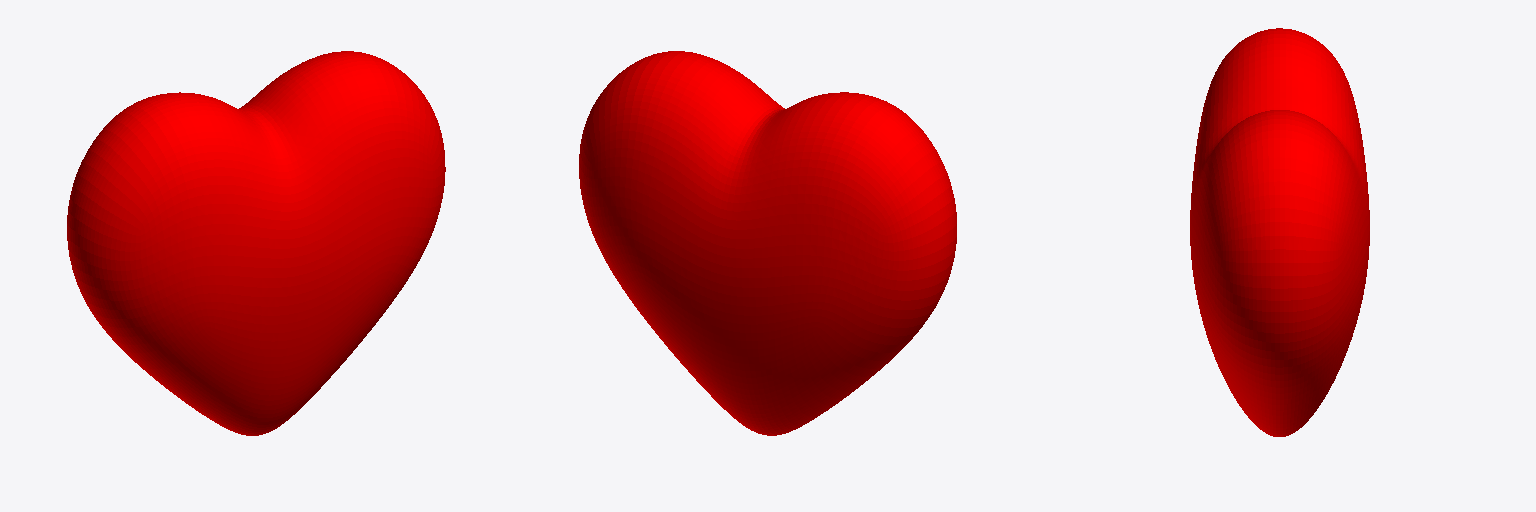
File: heart.obj
3 views of the same model, side by side, from view 1: azimuth 30°, elevation 25°; view 2: azimuth 150°, elevation 25°; view 3: azimuth 270°, elevation 25° (orthographic).
Parts seen in each view (by area): view 1: Heart; view 2: Heart; view 3: Heart.
Boxes of the visible parts, x1,y1,x2,y2 form: Heart: [67, 51, 445, 435]; Heart: [579, 51, 956, 435]; Heart: [1190, 28, 1369, 436].
Bounding box in the file's own units: 0.2125 × 0.1991 × 0.0914.